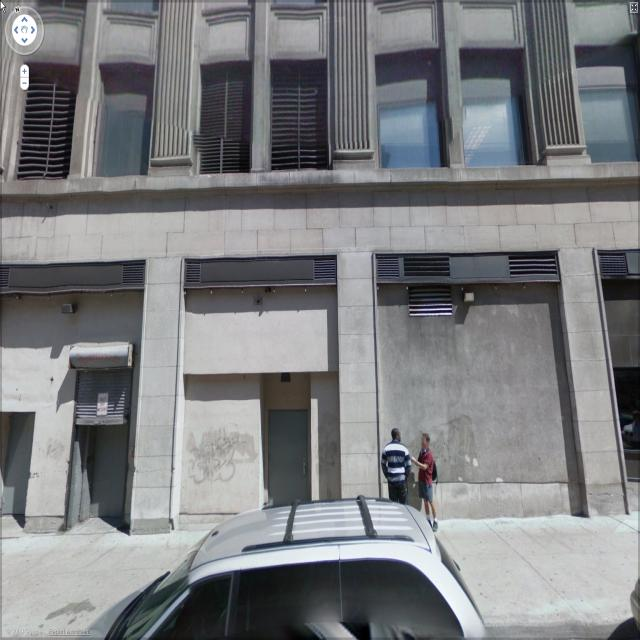b_1: (3, 4, 640, 531)
